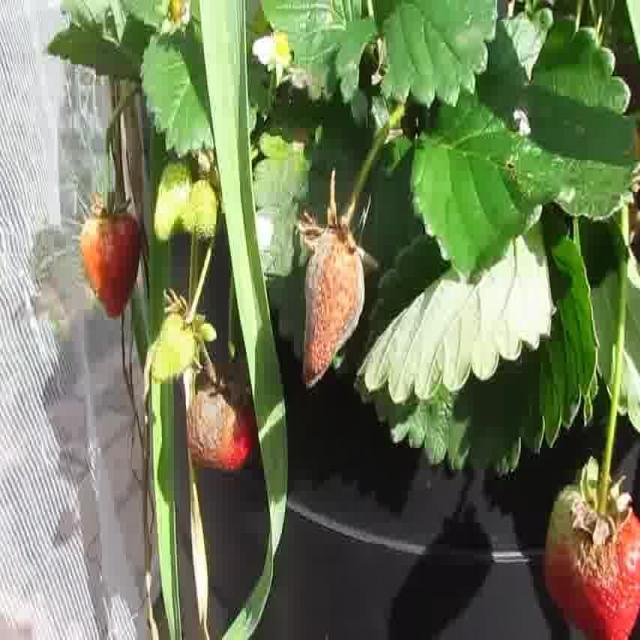Fruta sana: (79, 215, 139, 319), (154, 161, 193, 241), (180, 180, 218, 238), (271, 31, 290, 58), (166, 0, 183, 23)
Moho gris: (542, 484, 640, 640), (302, 234, 366, 390), (186, 377, 256, 472)
